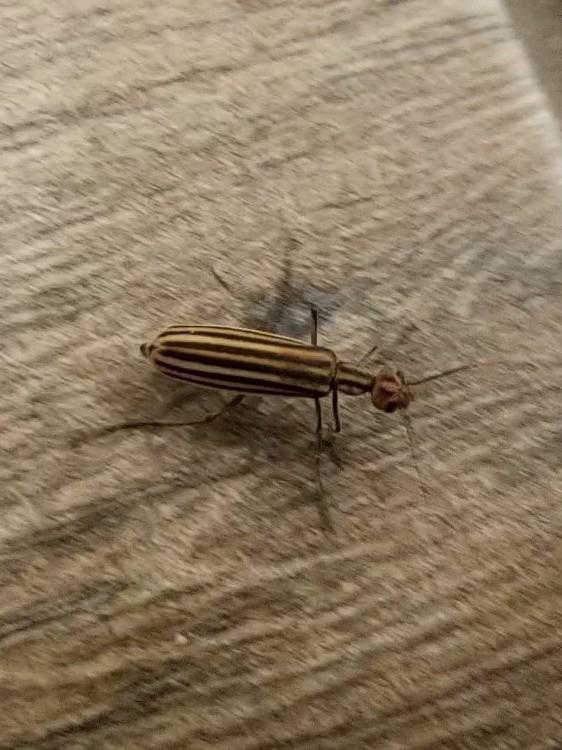blister_beetle: (69, 212, 500, 540)
